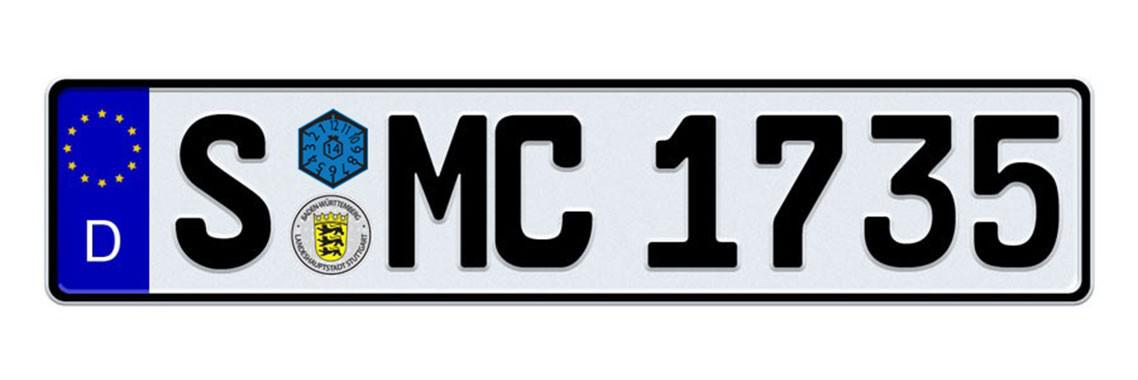1: (641, 108, 744, 272)
3: (860, 105, 961, 275)
5: (970, 110, 1065, 272)
7: (748, 107, 846, 276)
C: (491, 108, 595, 276)
M: (381, 106, 492, 274)
S: (171, 109, 278, 278)
